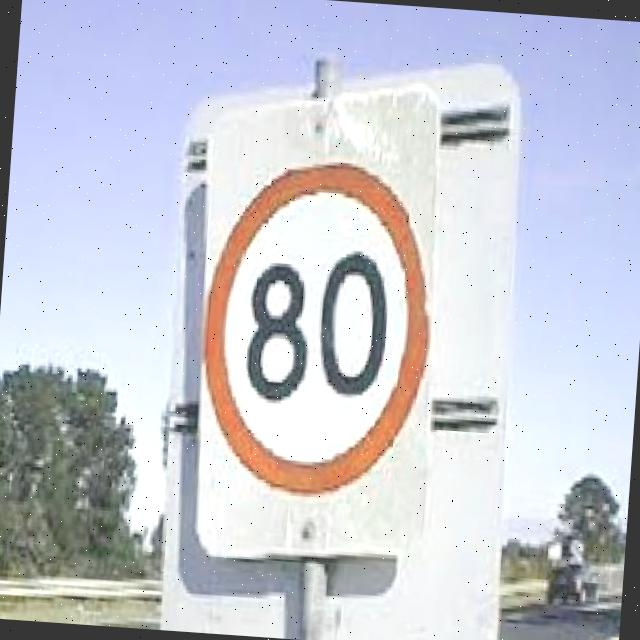Ograniczenie predkosci do 80: (195, 160, 443, 502)
